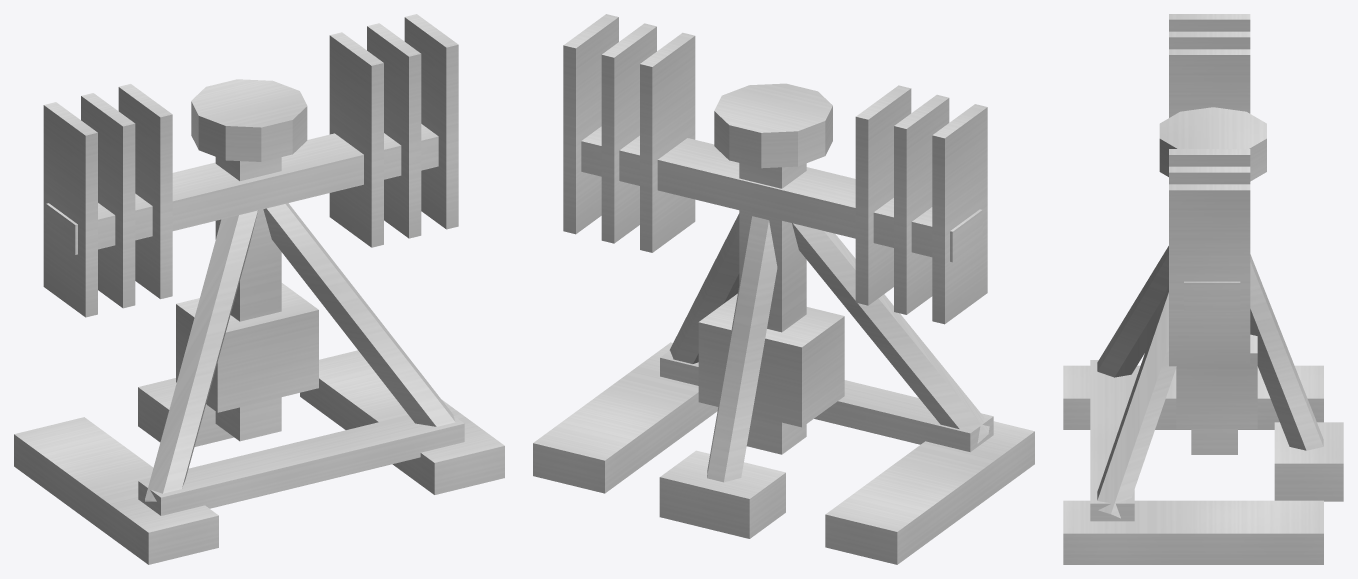
File: band_node.obj
The picture shows the model from 3 angles, left to right: view 1: azimuth 30°, elevation 25°; view 2: azimuth 150°, elevation 25°; view 3: azimuth 270°, elevation 25°; orthographic projection. The views are drawn at different scales.
Parts seen in each view (by area): view 1: band_node; view 2: band_node; view 3: band_node.
Boxes of the visible parts, x1,y1,x2,y2 form: band_node: (14, 14, 504, 564); band_node: (533, 14, 1034, 564); band_node: (1063, 14, 1343, 564).
Size of the model in its own units: 1.72 by 1.7 by 1.14.
